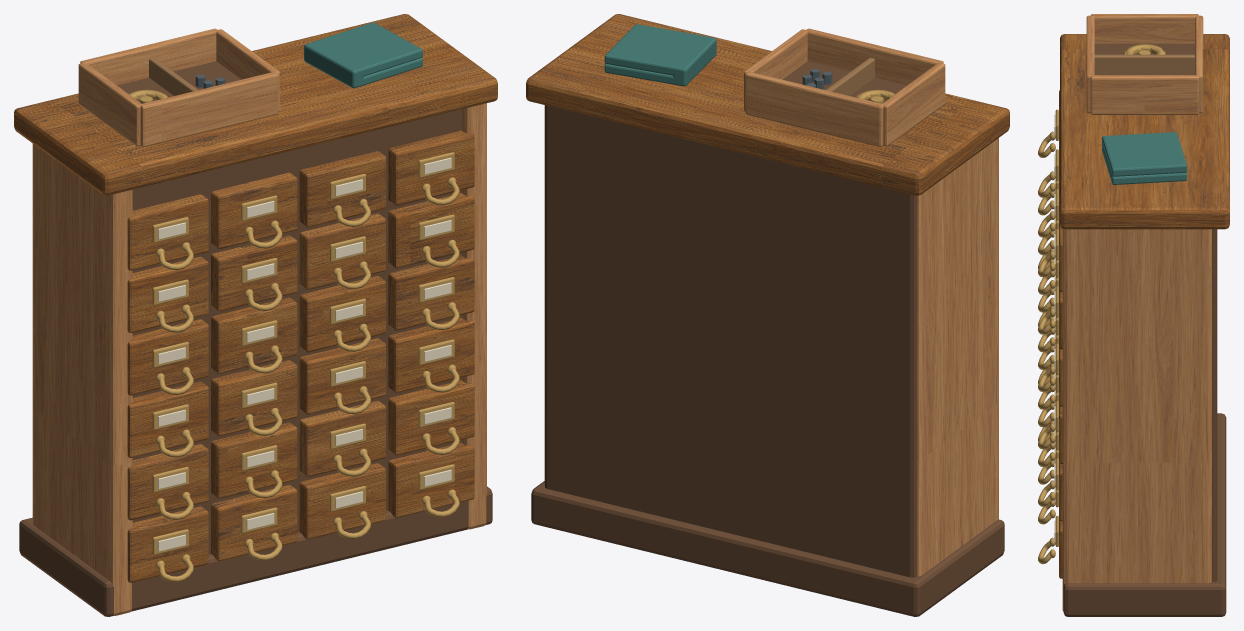
3 views of the same model, side by side, from view 1: azimuth 30°, elevation 25°; view 2: azimuth 150°, elevation 25°; view 3: azimuth 270°, elevation 25° (orthographic). The views are drawn at different scales.
Visible parts, largest first — view 1: workshop_bench, workshop_oak, workshop_wood_dark, workshop_brass, workshop_paper, workshop_teal, workshop_wood; view 2: workshop_wood_dark, workshop_oak, workshop_bench, workshop_teal, workshop_wood; view 3: workshop_oak, workshop_bench, workshop_wood_dark, workshop_brass, workshop_teal, workshop_wood, workshop_paper.
Boxes of the visible parts, left/top/right/bottom form: workshop_bench: left=14, top=14, right=497, bottom=582; workshop_oak: left=32, top=28, right=486, bottom=615; workshop_wood_dark: left=19, top=61, right=492, bottom=616; workshop_brass: left=129, top=89, right=459, bottom=582; workshop_paper: left=158, top=157, right=451, bottom=551; workshop_teal: left=304, top=22, right=422, bottom=88; workshop_wood: left=149, top=57, right=197, bottom=95; workshop_wood_dark: left=531, top=61, right=1004, bottom=616; workshop_oak: left=544, top=28, right=998, bottom=576; workshop_bench: left=526, top=14, right=1009, bottom=195; workshop_teal: left=604, top=24, right=716, bottom=86; workshop_wood: left=826, top=57, right=874, bottom=95; workshop_oak: left=1062, top=14, right=1211, bottom=611; workshop_bench: left=1059, top=34, right=1229, bottom=578; workshop_wood_dark: left=1063, top=43, right=1226, bottom=616; workshop_brass: left=1038, top=44, right=1165, bottom=564; workshop_teal: left=1102, top=132, right=1187, bottom=184; workshop_wood: left=1094, top=54, right=1194, bottom=73; workshop_paper: left=1054, top=114, right=1055, bottom=541.
Size of the model in its own units: 2.32 by 2.76 by 1.06.
9 materials, 2 textured.
